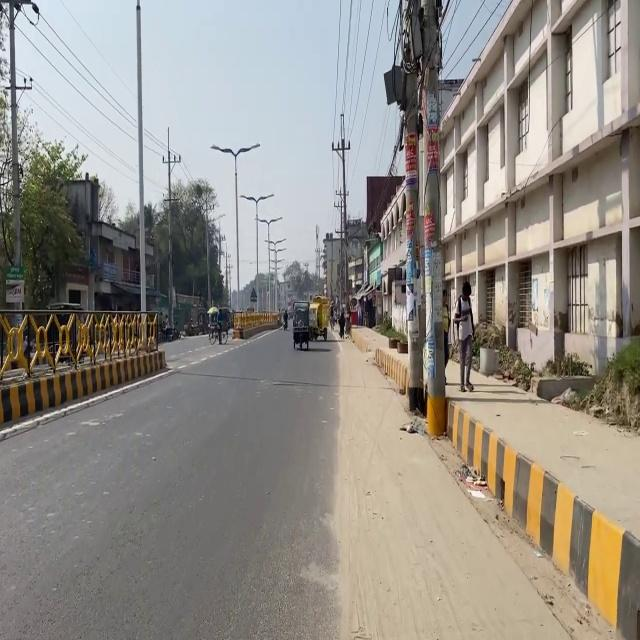Construction-barrier: (0, 365, 172, 441)
Fallen-tree: (207, 319, 229, 344), (159, 324, 180, 342), (309, 324, 327, 341)
Garbage-bin: (453, 282, 475, 391)
Light-pole: (400, 12, 454, 438), (134, 1, 148, 342)
Pole: (4, 308, 187, 429)
Pothole: (360, 322, 640, 640)
Traffic-cone: (291, 295, 331, 350)
